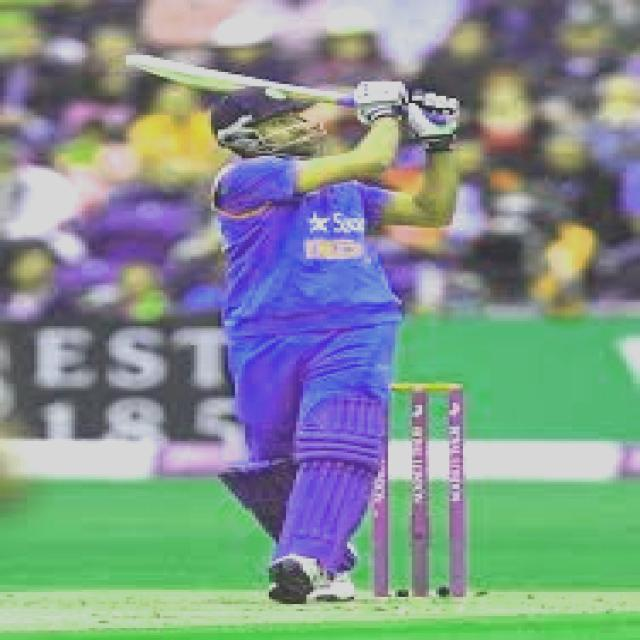toe: (121, 51, 152, 75)
